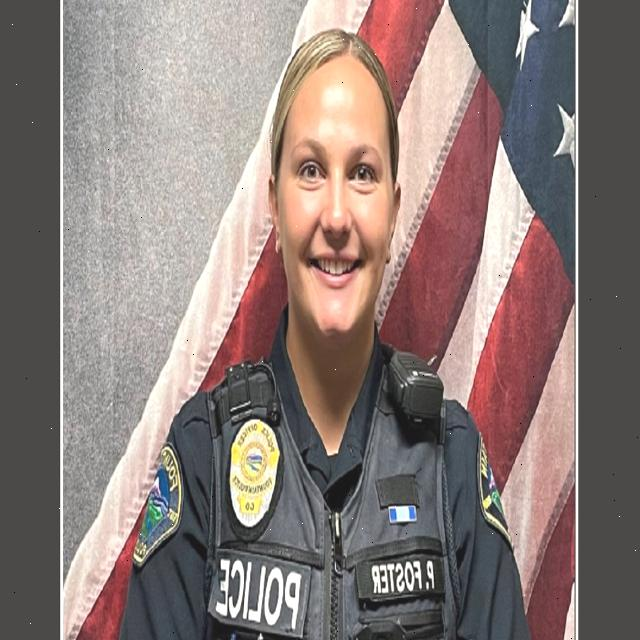police: (128, 18, 535, 640)
